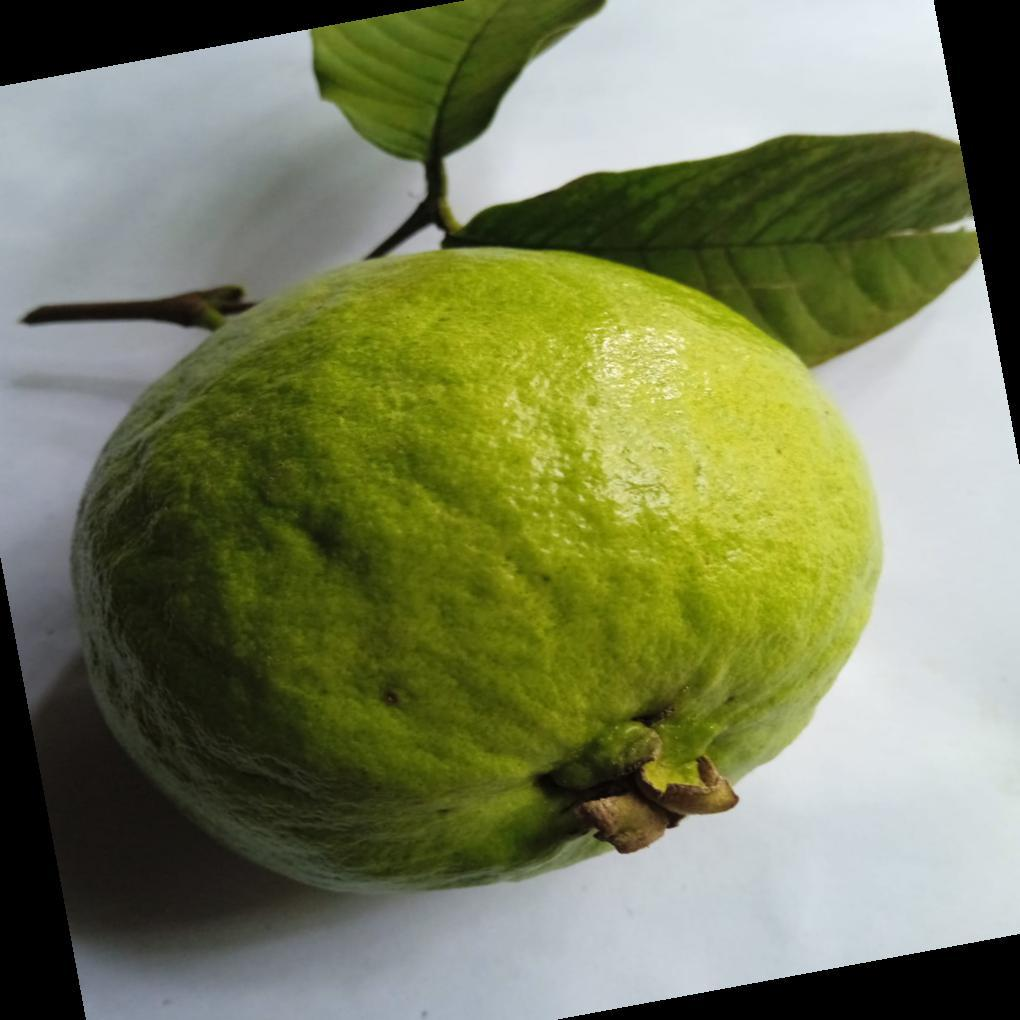FreshGuava: (69, 249, 885, 900)
